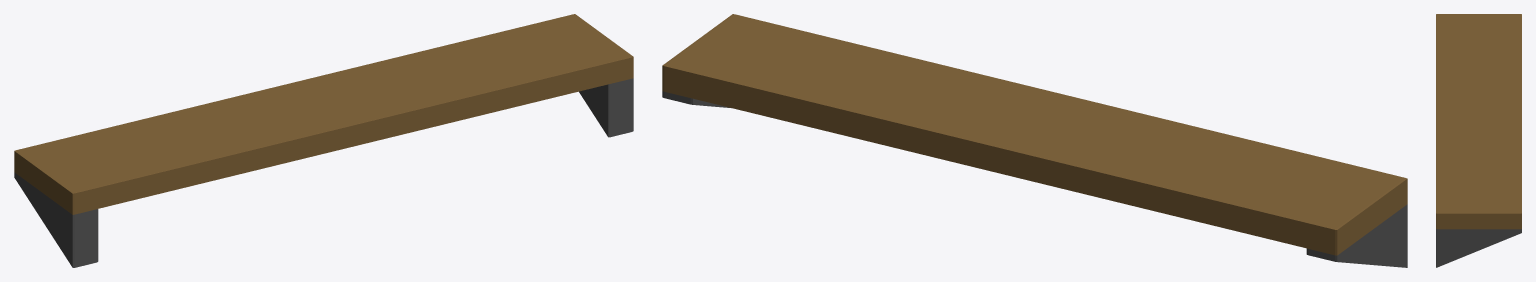
File: shelf.fbx
3 renders of one model, left to right at view 1: azimuth 30°, elevation 25°; view 2: azimuth 150°, elevation 25°; view 3: azimuth 270°, elevation 25°, orthographic. The views are drawn at different scales.
Parts seen in each view (by area): view 1: Cube; view 2: Cube; view 3: Cube.
Boxes of the visible parts, box(x1,y1,x2,y2) form: Cube: box(14, 14, 633, 267); Cube: box(662, 14, 1407, 267); Cube: box(1436, 14, 1521, 267).
Bounding box in the file's own units: 1100 × 140 × 200.
